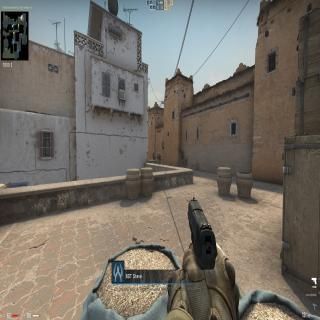T-Head: (153, 151, 155, 154), (158, 152, 159, 155)
